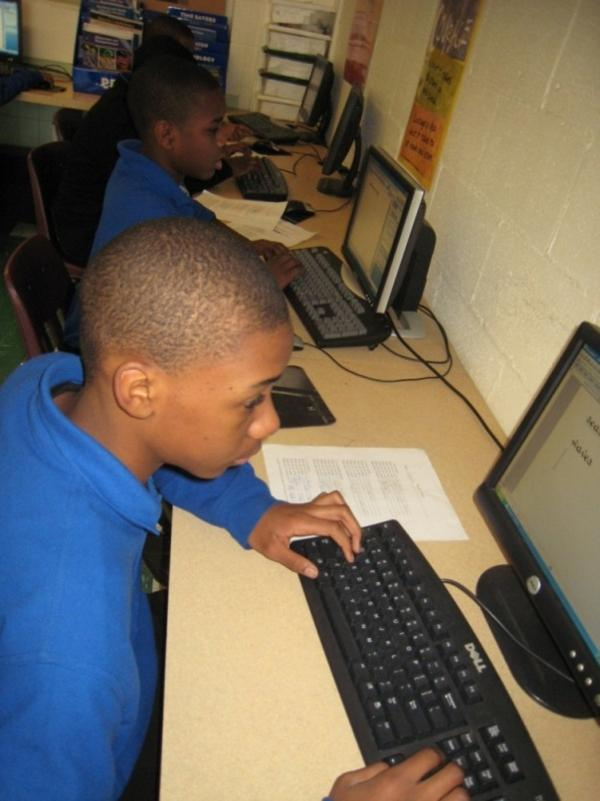person: (8, 217, 470, 801)
